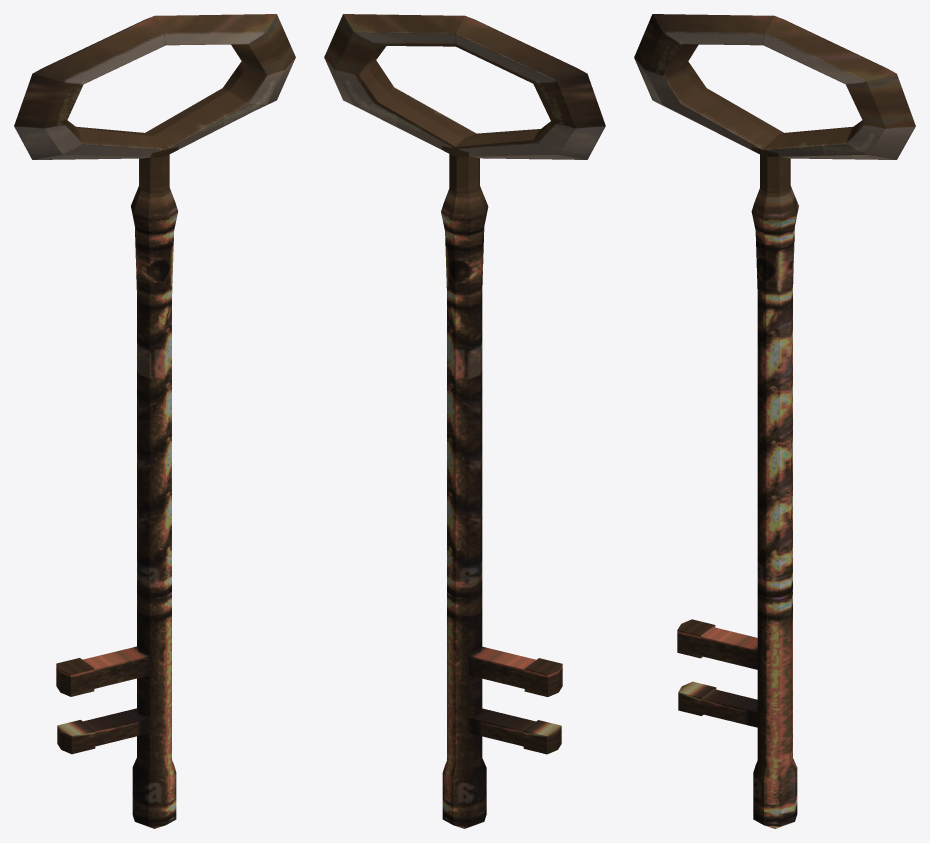
The model's file is PAST-Key1.fbx.
3 views of the same model, side by side, from view 1: azimuth 30°, elevation 25°; view 2: azimuth 150°, elevation 25°; view 3: azimuth 330°, elevation 25° (orthographic).
Parts seen in each view (by area): view 1: Key1; view 2: Key1; view 3: Key1.
Boxes of the visible parts, bbox=[...] form: Key1: bbox=[14, 14, 295, 828]; Key1: bbox=[324, 14, 605, 828]; Key1: bbox=[634, 14, 915, 828].
Size of the model in its own units: 2.01 by 5.54 by 0.3034.
1 material, 1 textured.
